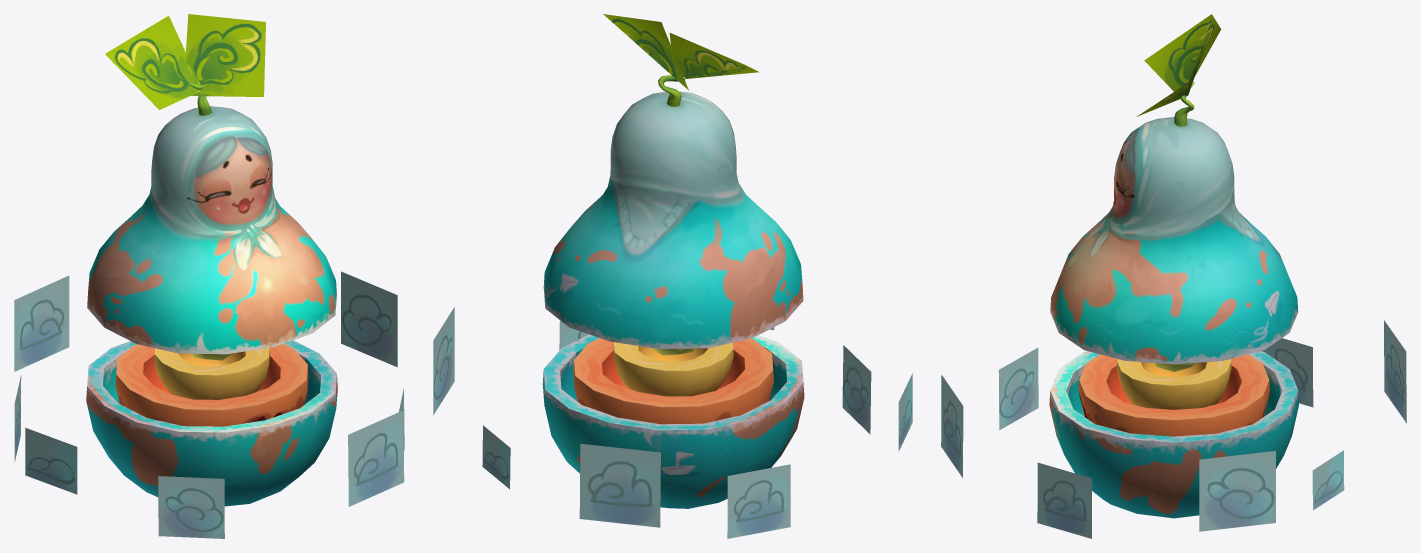
Rendered from anima.fbx.
3 renders of one model, left to right at view 1: azimuth 30°, elevation 25°; view 2: azimuth 150°, elevation 25°; view 3: azimuth 270°, elevation 25°, orthographic. The views are drawn at different scales.
Parts seen in each view (by area): view 1: Плоскость.002, Плоскость.004, Cube.002, Cube.003, Cube.004; view 2: Плоскость.002, Cube.002, Плоскость.004, Cube.003, Cube.004; view 3: Плоскость.002, Плоскость.004, Cube.002, Cube.003, Cube.004.
Part boxes in pixels (box(x1,y1,x2,y2)): Плоскость.002: box(87, 14, 336, 354); Плоскость.004: box(14, 271, 404, 538); Cube.002: box(86, 340, 337, 506); Cube.003: box(115, 343, 308, 426); Cube.004: box(154, 348, 269, 399); Плоскость.002: box(543, 14, 803, 348); Cube.002: box(542, 334, 804, 508); Плоскость.004: box(433, 307, 912, 538); Cube.003: box(573, 338, 773, 424); Cube.004: box(613, 342, 733, 396); Плоскость.002: box(1050, 14, 1298, 364); Плоскость.004: box(941, 320, 1406, 538); Cube.002: box(1049, 351, 1298, 518); Cube.003: box(1078, 354, 1269, 436); Cube.004: box(1117, 359, 1231, 409).
Size of the model in its own units: 403 by 452 by 408.
